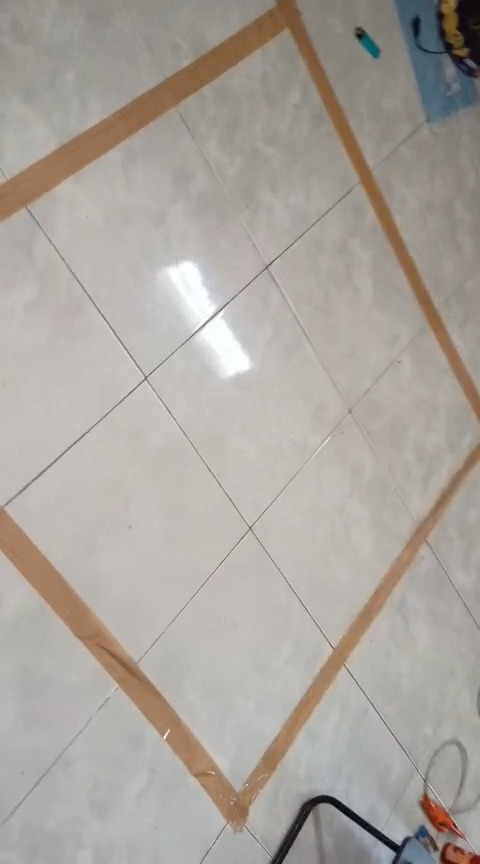floor marking: (0, 0, 479, 421), (0, 444, 479, 828)
